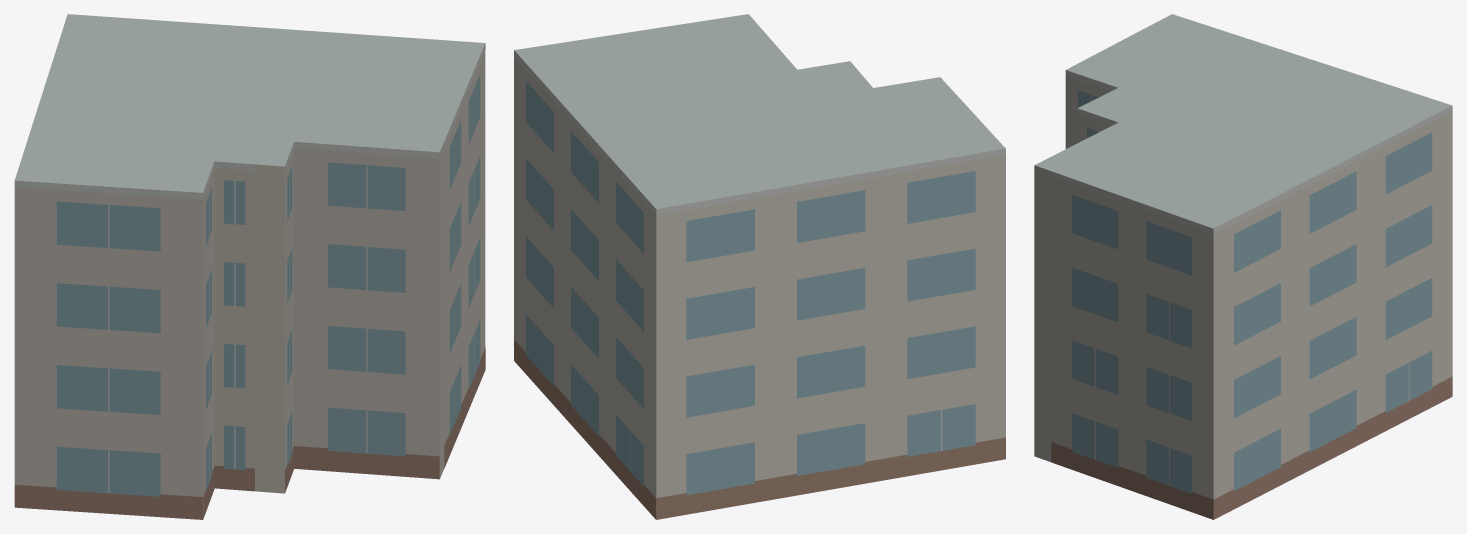
File: survey-upis-32807336.glb
3 views of the same model, side by side, from view 1: azimuth 30°, elevation 25°; view 2: azimuth 150°, elevation 25°; view 3: azimuth 270°, elevation 25° (orthographic). The views are drawn at different scales.
Visible parts, largest first — view 1: survey-upis-32807336.tmp; view 2: survey-upis-32807336.tmp; view 3: survey-upis-32807336.tmp.
Boxes of the visible parts, bbox=[...] form: survey-upis-32807336.tmp: bbox=[14, 14, 485, 519]; survey-upis-32807336.tmp: bbox=[514, 14, 1005, 519]; survey-upis-32807336.tmp: bbox=[1034, 14, 1452, 519].
Bounding box in the file's own units: 19.18 × 12.12 × 15.78.
